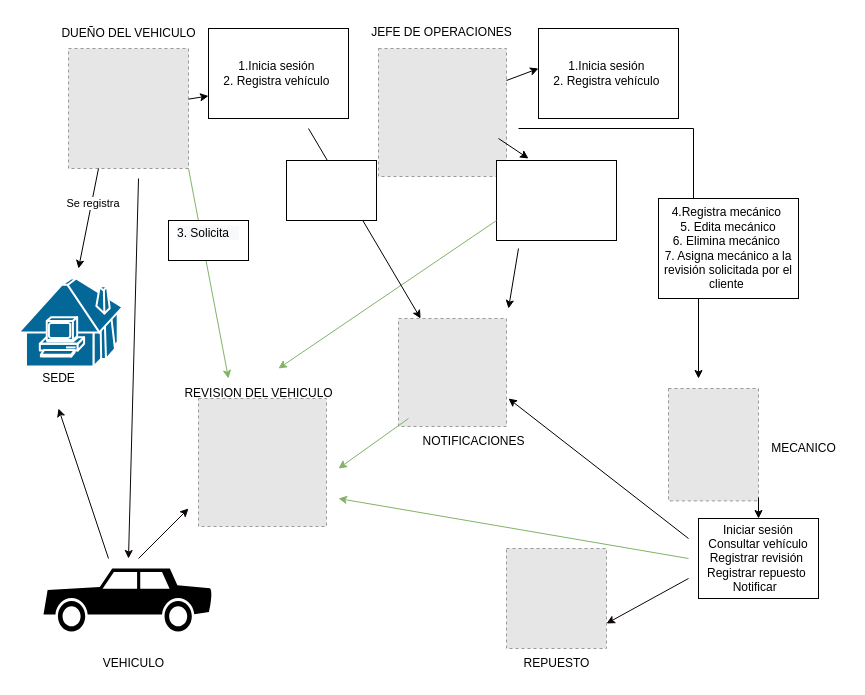
Some shapes in this 865 by 695 pixel diagram are drawn without their labels. Grey dashed boxes stand in for pictures. Here are the shapes that lost their labels. From the top down, the box of each, then its label:
(286, 160, 376, 220): 4. Ver Notificaciones
(496, 160, 616, 240): 3. Aceptar, rechazar o reagendar solicitud Notifica
